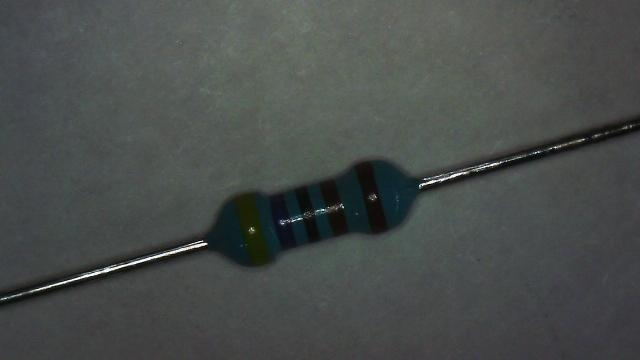black: (295, 186, 320, 242)
brown: (356, 162, 386, 232), (320, 179, 347, 235)
resistor: (199, 150, 435, 273)
violet: (270, 194, 296, 249)
yellow: (236, 194, 269, 265)
